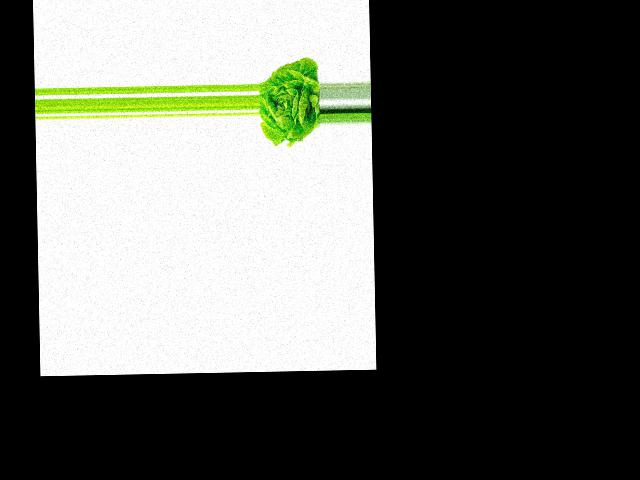lettuce: (258, 55, 321, 144)
